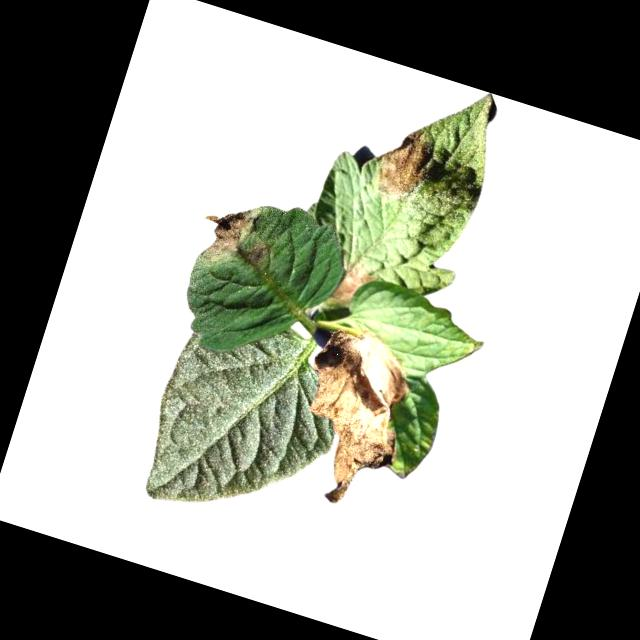Late_blight: (275, 316, 429, 517), (366, 119, 444, 211), (192, 192, 264, 276), (326, 256, 381, 316), (246, 238, 274, 270)
